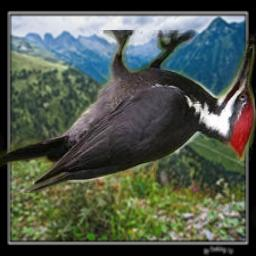Woodpecker: (0, 30, 256, 193)
